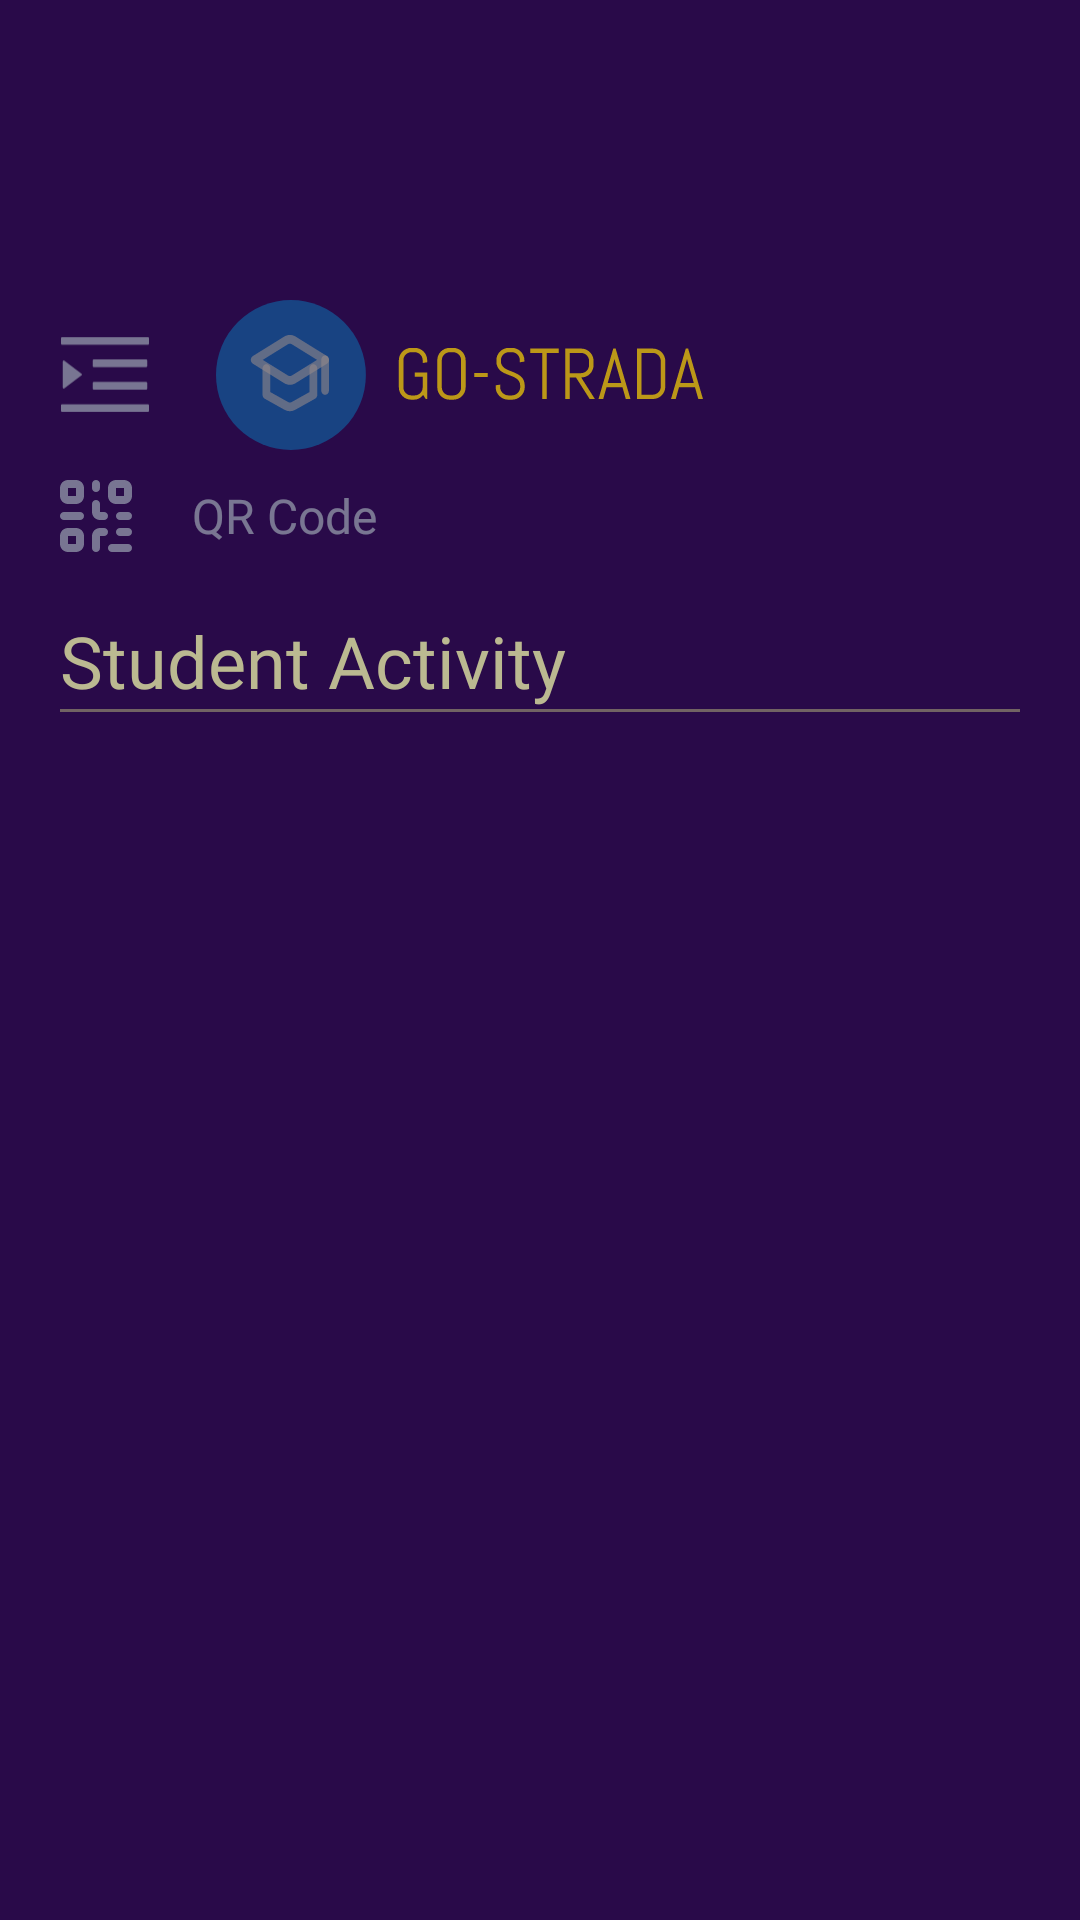

Icon click points for this 1080x1920 phone screenshot, format (x,y):
Menu Open: (105,374)
